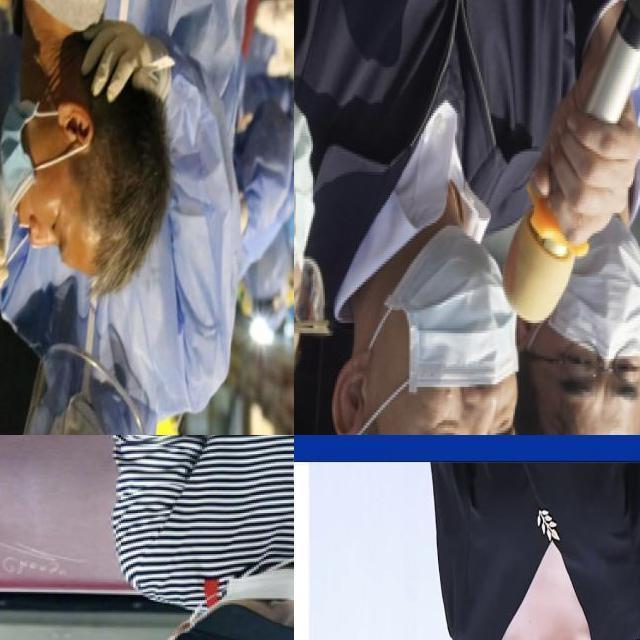hairnet: (375, 228, 518, 423), (0, 104, 55, 267), (227, 565, 293, 638)
